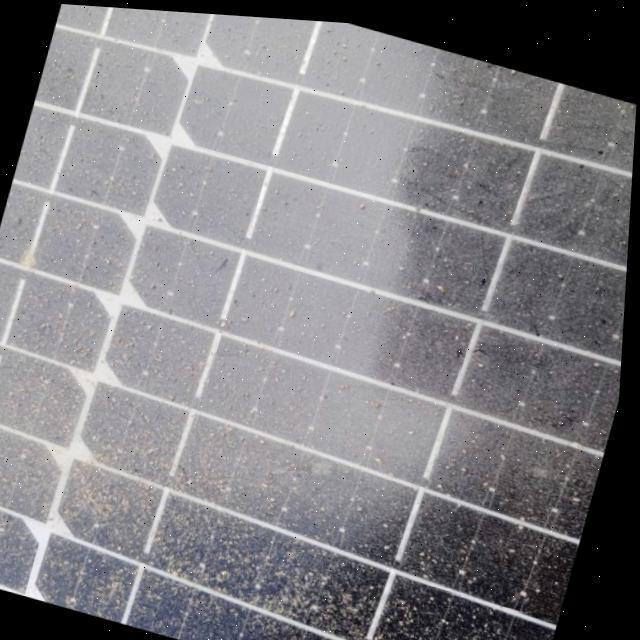Surface Contaminant: (0, 3, 637, 640)
